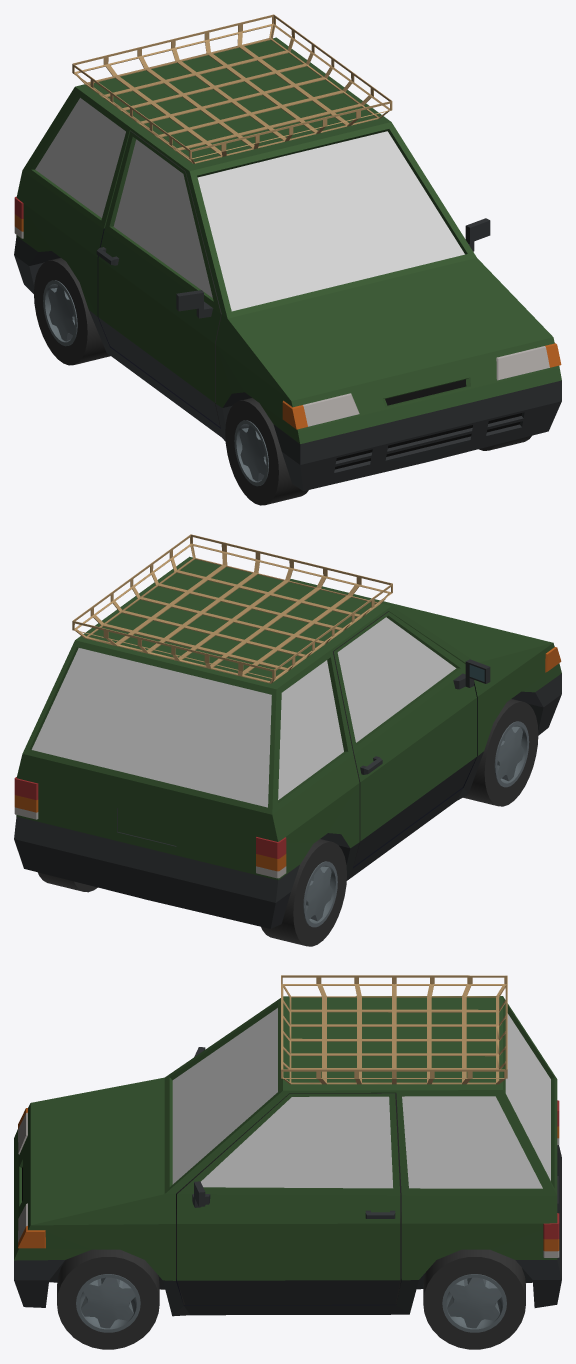
File: Potite_Voiture_PlaceHolder_Avec_Attache.fbx
3 renders of one model, top to bottom at view 1: azimuth 30°, elevation 25°; view 2: azimuth 150°, elevation 25°; view 3: azimuth 270°, elevation 25°, orthographic. The views are drawn at different scales.
Visible parts, largest first — view 1: car body, Windows, wheel fr, wheel br; view 2: car body, Windows, wheel br, wheel fr; view 3: car body, Windows, wheel bl, wheel fl.
Part boxes in pixels (left/top/right/bottom): car body: left=14, top=14, right=561, bottom=491; Windows: left=35, top=98, right=464, bottom=311; wheel fr: left=225, top=398, right=308, bottom=505; wheel br: left=34, top=258, right=110, bottom=365; car body: left=14, top=534, right=561, bottom=928; Windows: left=278, top=617, right=456, bottom=799; wheel br: left=261, top=839, right=346, bottom=946; wheel fr: left=463, top=699, right=538, bottom=806; car body: left=14, top=975, right=561, bottom=1316; Windows: left=172, top=1008, right=542, bottom=1188; wheel bl: left=423, top=1249, right=525, bottom=1349; wheel fl: left=57, top=1249, right=159, bottom=1349.
Bounding box in the file's own units: 85.69 × 73.03 × 136.
10 materials, 9 textured.
